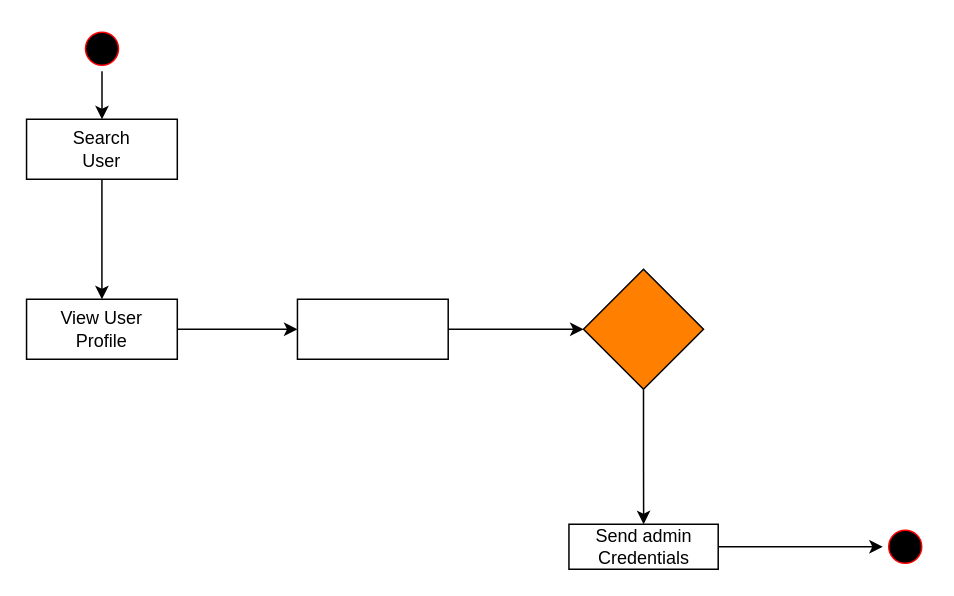
The diagram is 954 pixels wide and 596 high, and some of its shapes have lost their labels. Each missing label, with the centre of its shape:
"Confirm Admin" belongs at pixel 643 328.
"Give Admin Priviliges" belongs at pixel 372 328.
